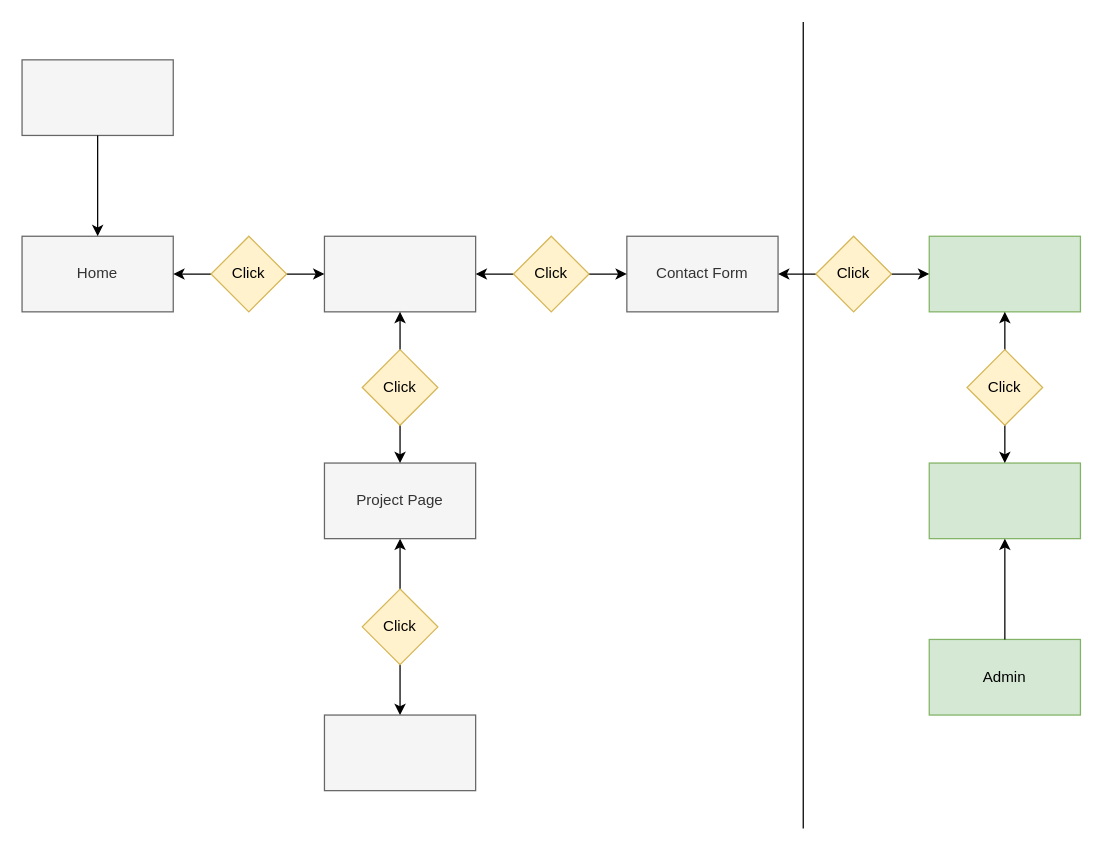
Some shapes in this 1103 by 852 pixel diagram are drawn without their labels. The shapes that lost their labels are listed below. From the top down, each one's box as (x1, y1, x2, y2) in pixels, then its label:
(21, 59, 173, 135): Guest User
(323, 235, 476, 312): Portfolio
(928, 235, 1080, 312): Content Management
(928, 462, 1080, 539): Admin Login
(323, 714, 476, 791): Project Page etc.
